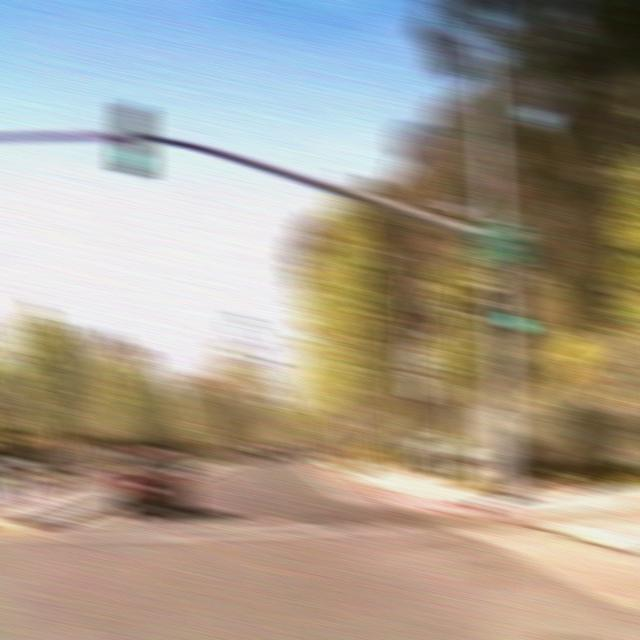speedLimit40: (401, 343, 434, 381)
